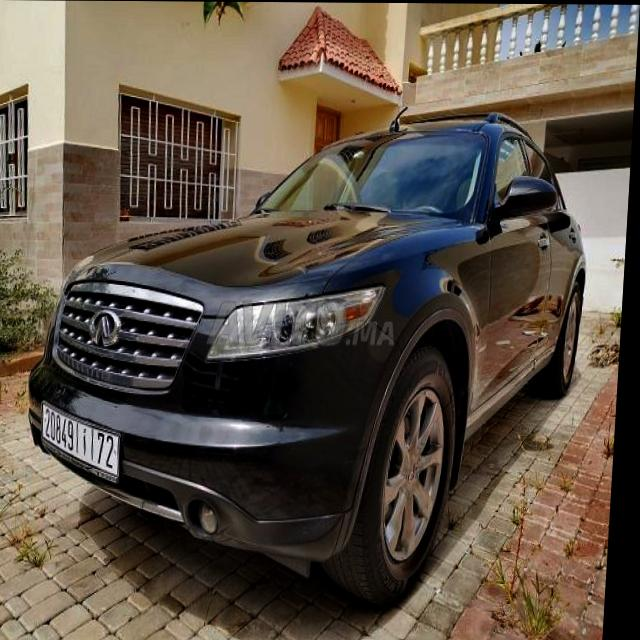License-Plate: (47, 405, 124, 476)
